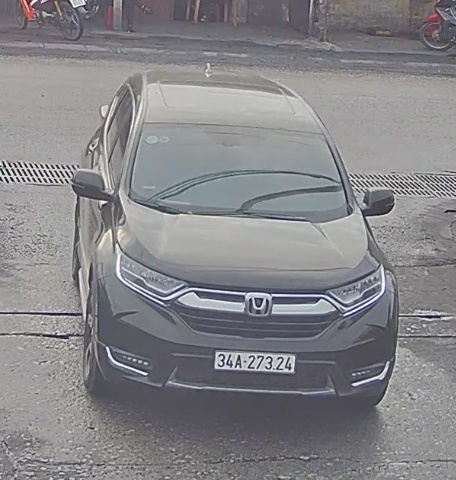vehicle plate: (206, 343, 304, 380)
